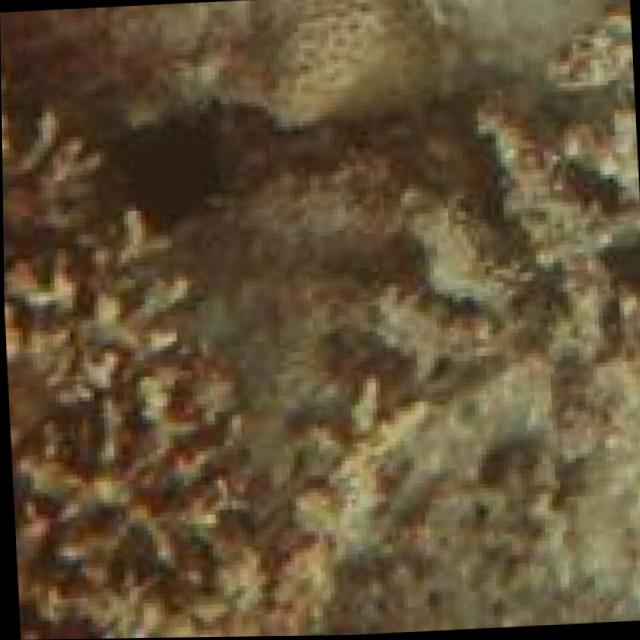Healthy Coral: (209, 0, 462, 152)
